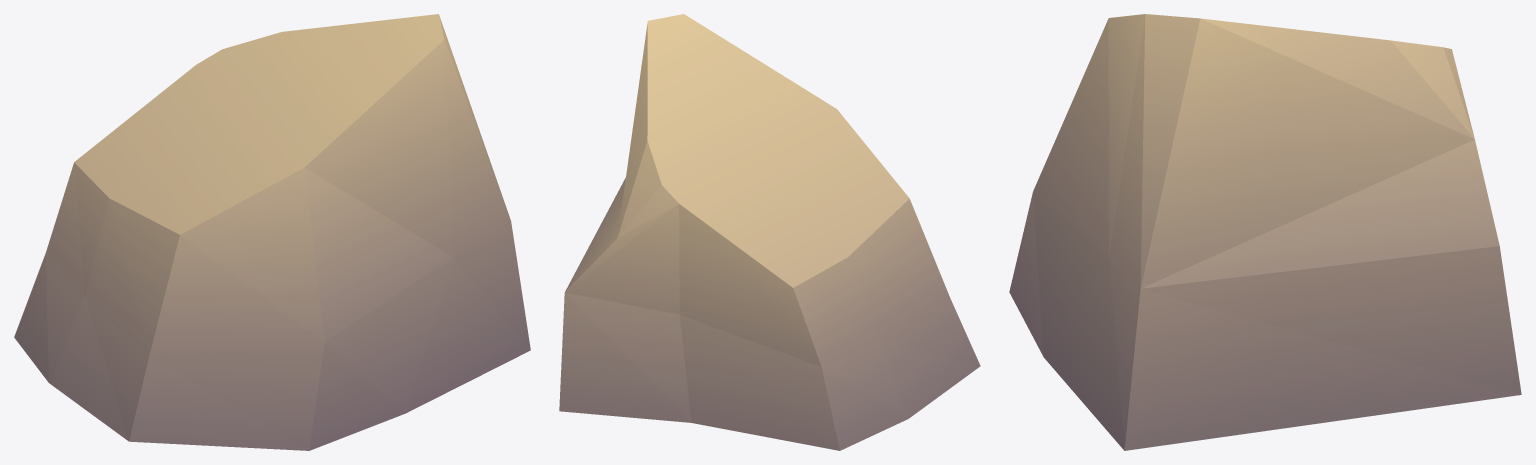
Rendered from rock-2.glb.
The picture shows the model from 3 angles, left to right: view 1: azimuth 30°, elevation 25°; view 2: azimuth 150°, elevation 25°; view 3: azimuth 270°, elevation 25°; orthographic projection. The views are drawn at different scales.
Parts seen in each view (by area): view 1: Rock2; view 2: Rock2; view 3: Rock2.
Boxes of the visible parts, left/top/right/bottom form: Rock2: left=14, top=14, right=530, bottom=450; Rock2: left=559, top=14, right=980, bottom=450; Rock2: left=1009, top=14, right=1521, bottom=450.
Bounding box in the file's own units: 1.66 × 1.3 × 1.52.
1 material, 1 textured.
